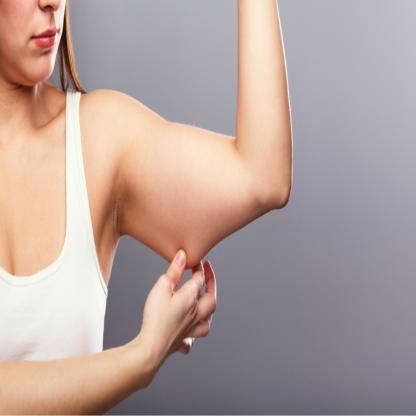Healthy Skin: (91, 97, 300, 273), (0, 101, 60, 256), (134, 270, 220, 365), (0, 362, 139, 416), (234, 0, 295, 105)
